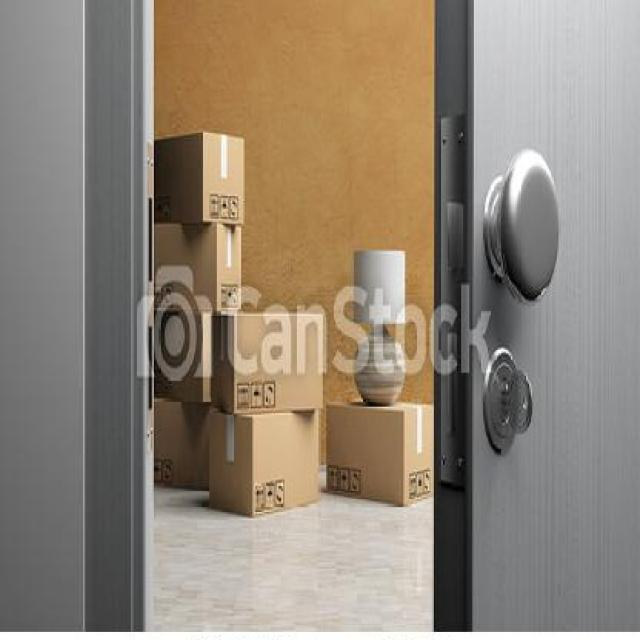box: (207, 390, 336, 521), (212, 299, 339, 424), (322, 393, 433, 524), (151, 114, 255, 231), (143, 212, 249, 319), (153, 307, 215, 416), (152, 395, 214, 495)
